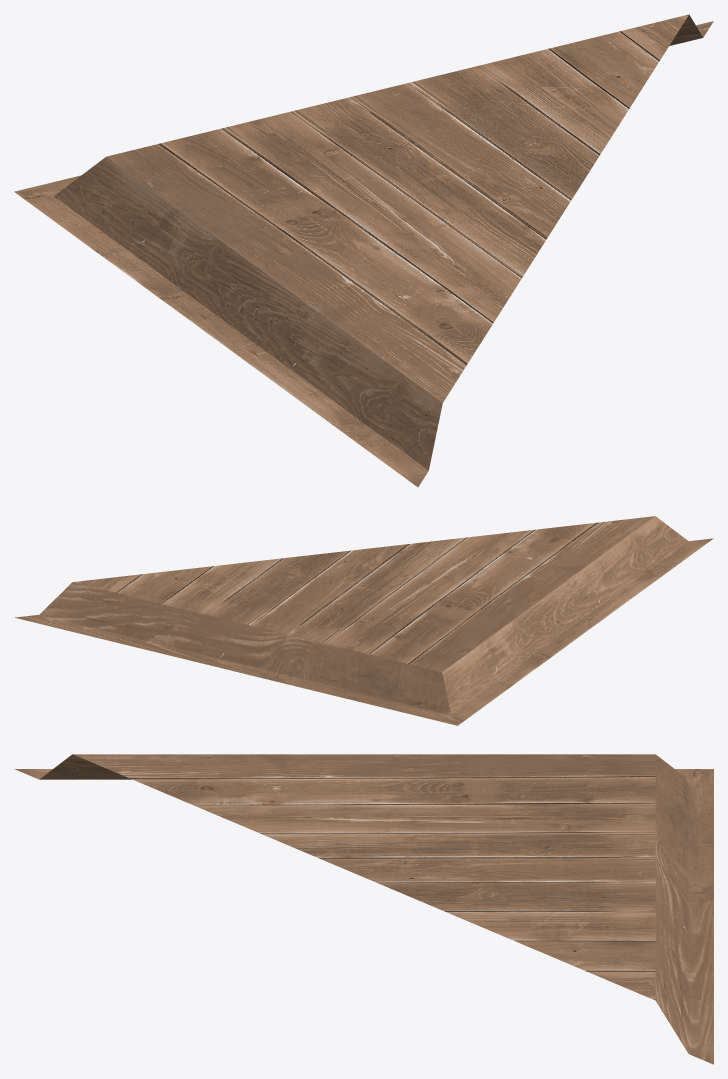
Rendered from CeilingDiagB.fbx.
The picture shows the model from 3 angles, top to bottom: view 1: azimuth 30°, elevation 25°; view 2: azimuth 150°, elevation 25°; view 3: azimuth 270°, elevation 25°; orthographic projection. The views are drawn at different scales.
Parts seen in each view (by area): view 1: CeilingDiagB; view 2: CeilingDiagB; view 3: CeilingDiagB.
Part boxes in pixels (<box>): CeilingDiagB: <box>14,14,713,487</box>; CeilingDiagB: <box>15,516,713,725</box>; CeilingDiagB: <box>14,754,713,1064</box>.
Bounding box in the file's own units: 200 × 12.44 × 200.
